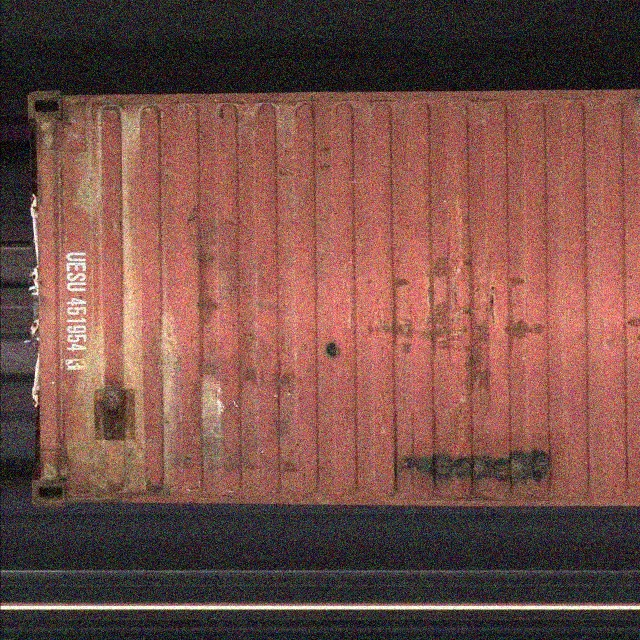Rusty: (398, 449, 558, 483), (95, 379, 140, 443), (321, 341, 346, 363)
